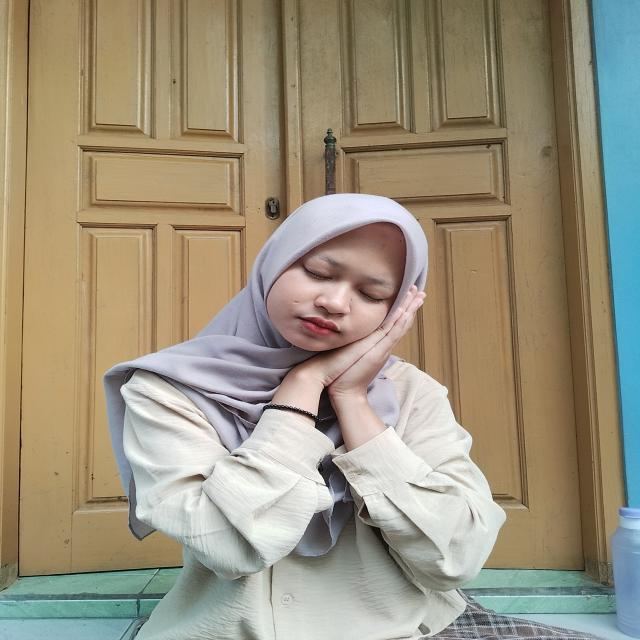tidur: (249, 280, 434, 440)
